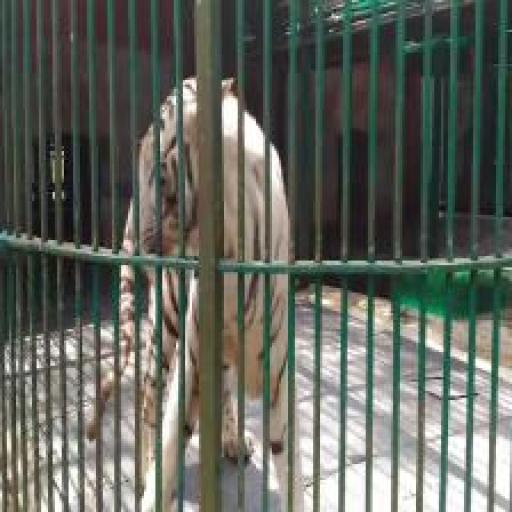Tiger: (87, 71, 308, 512)
